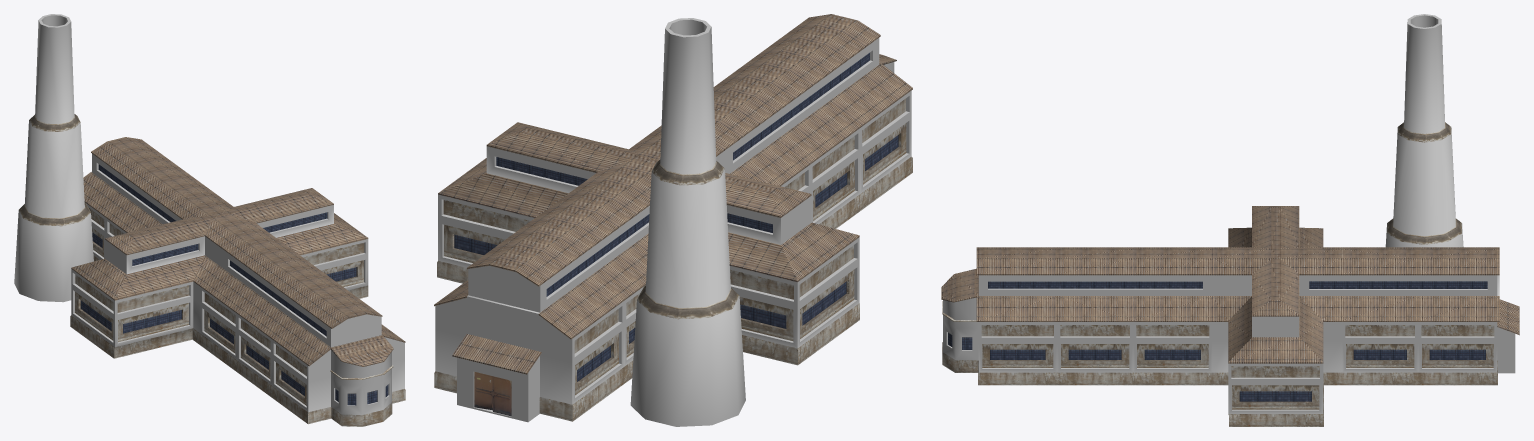
The model's file is hall02_lod1.fbx.
3 renders of one model, left to right at view 1: azimuth 30°, elevation 25°; view 2: azimuth 150°, elevation 25°; view 3: azimuth 270°, elevation 25°, orthographic. The views are drawn at different scales.
Parts seen in each view (by area): view 1: Mesh Object; view 2: Mesh Object; view 3: Mesh Object.
Boxes of the visible parts, x1=… form: Mesh Object: x1=14, y1=14, x2=405, y2=426; Mesh Object: x1=434, y1=14, x2=912, y2=426; Mesh Object: x1=941, y1=14, x2=1519, y2=426.
Size of the model in its own units: 33.28 by 32.55 by 59.36.
